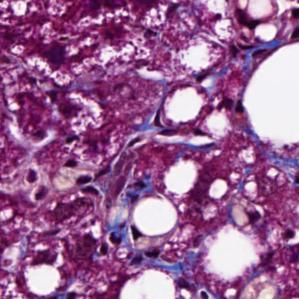inflammation: (123, 116, 211, 152), (96, 224, 161, 271), (237, 196, 298, 244)
